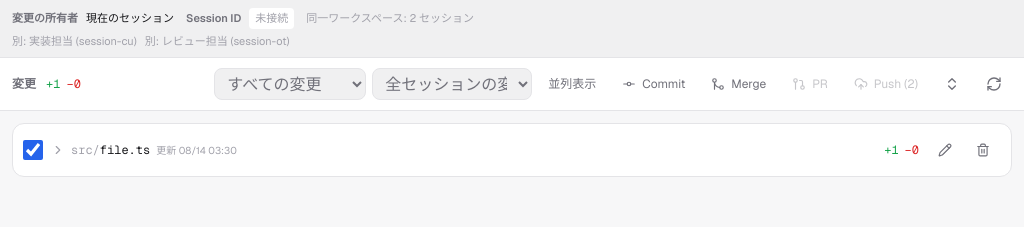
DiffPane directory race › opens a file in the editor via /api/files/open
Step 1. Click the button named "src/file.ts をエディタで開く" → (945, 150), box x1=927 y1=132 x2=963 y2=168
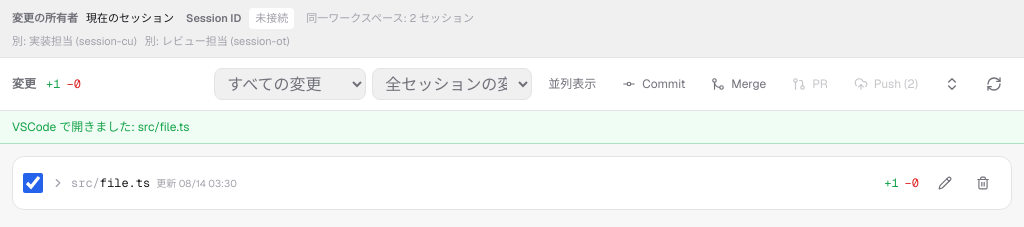
Expected: the text "VSCode で開きました: src/file.ts" is shown, x1=12 y1=119 x2=190 y2=135
